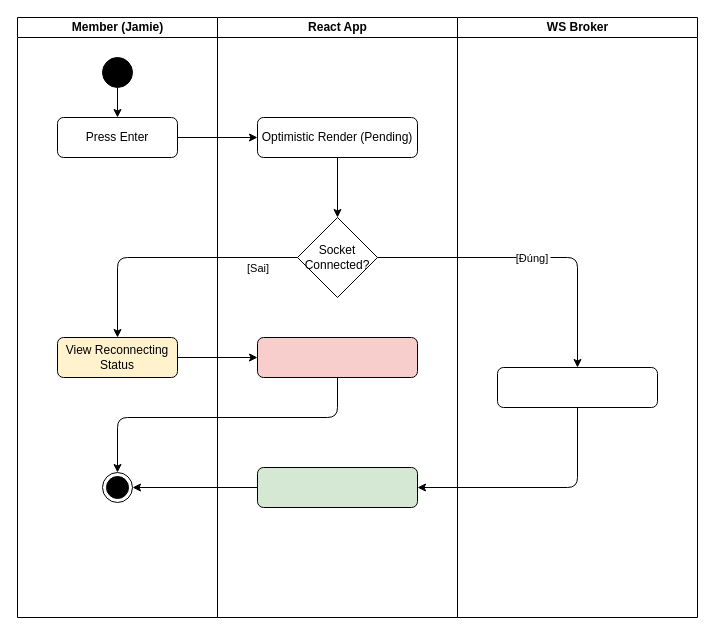
Some shapes in this 715 by 635 pixel diagram are drawn without their labels. Here are the shapes that lost their labels. From the top down, the centre of each, then its label:
(x=337, y=357): Trigger Auto-reconnect
(x=577, y=387): Broadcast to Topic
(x=337, y=487): Mark Message as Sent
